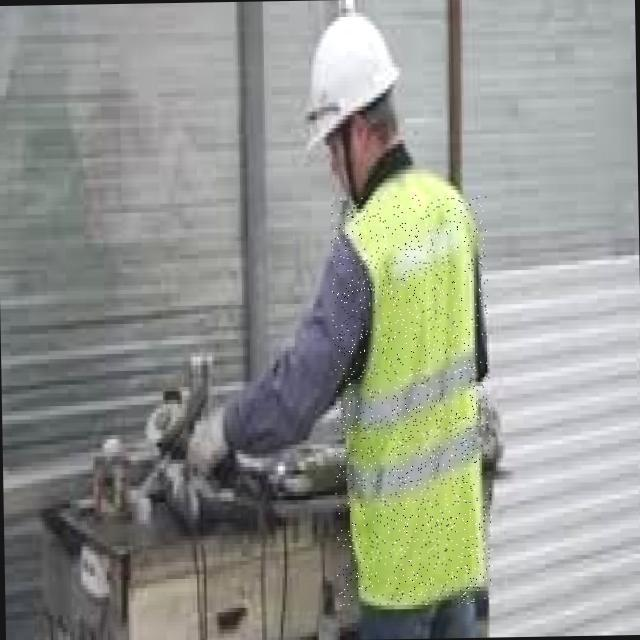helmet: (305, 7, 405, 155)
vest: (330, 194, 493, 606)
